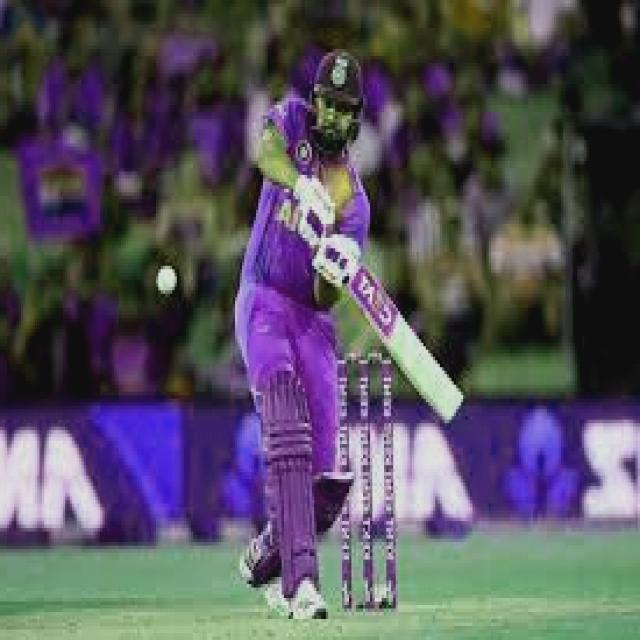toe: (439, 391, 463, 428)
